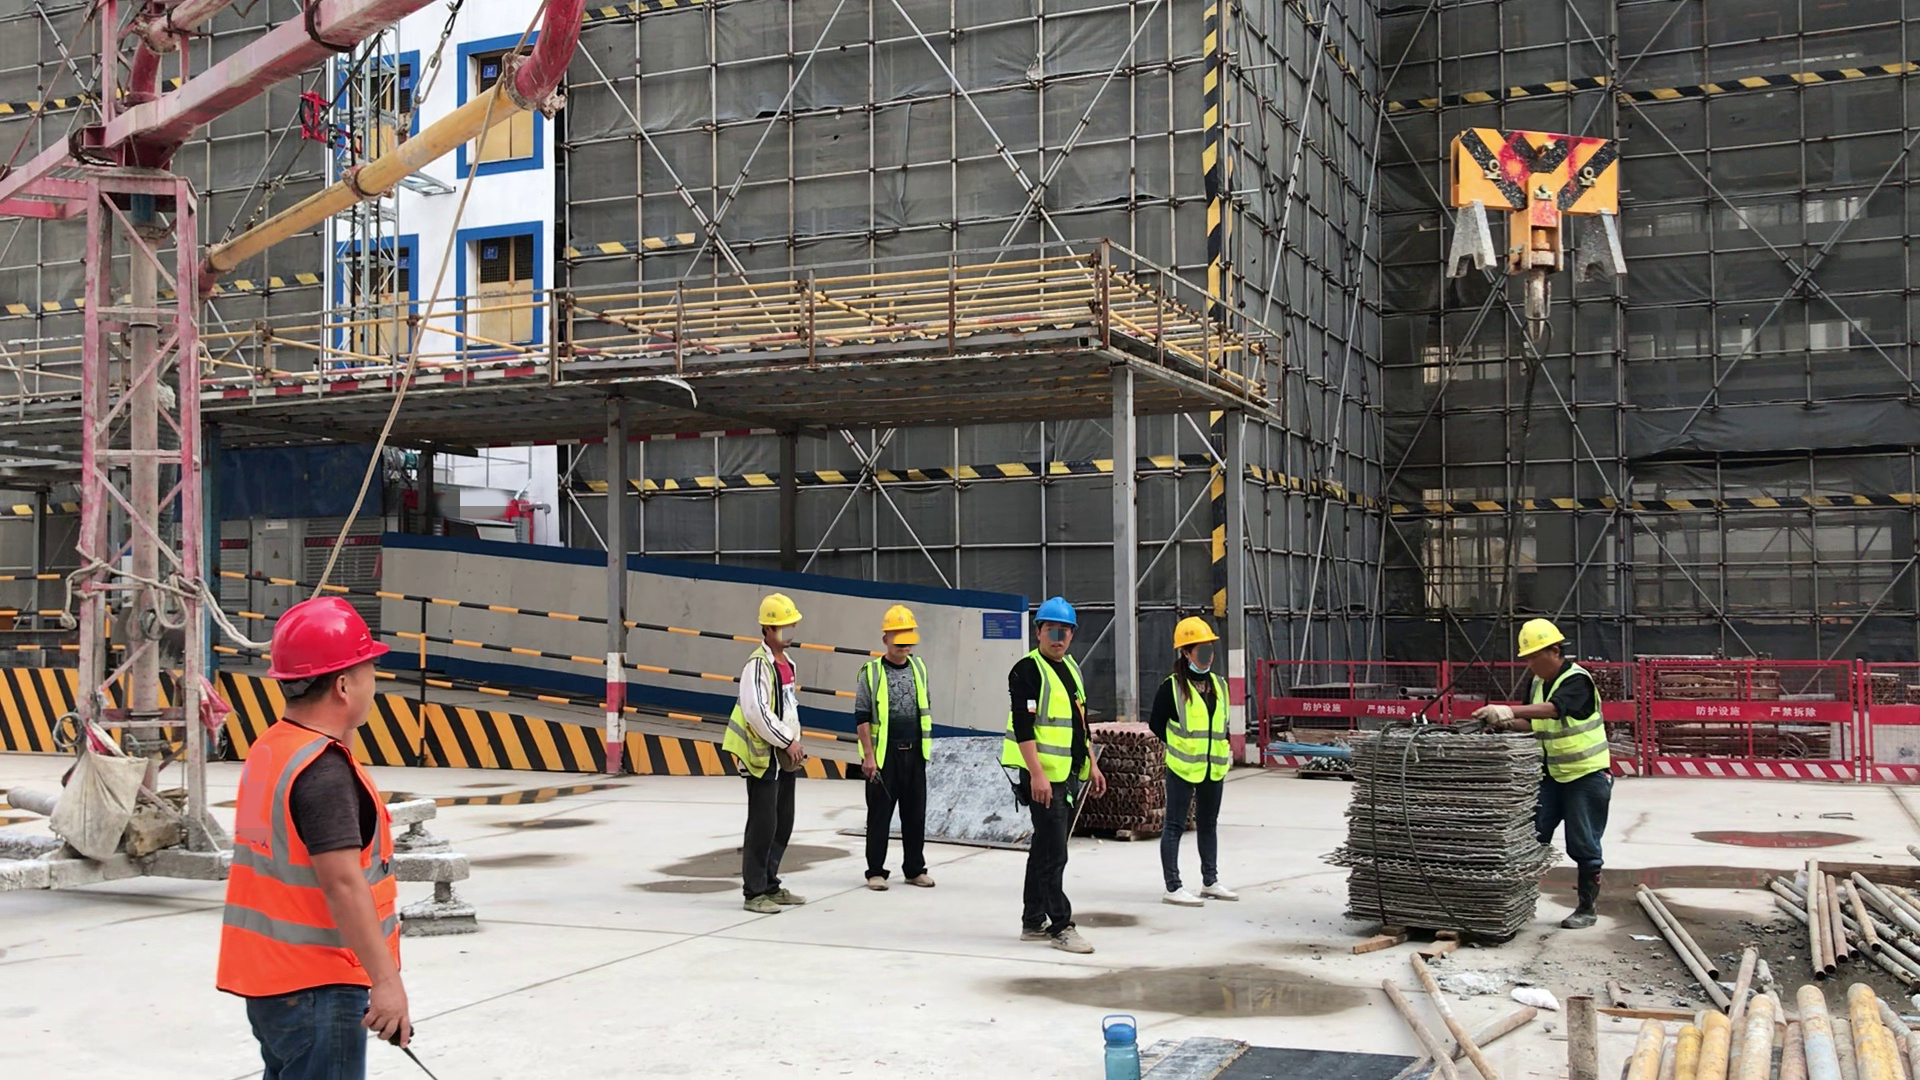board: (832, 732, 1105, 862)
fence: (1615, 653, 1894, 791), (1258, 651, 1466, 766)
helmet: (263, 596, 393, 688), (1515, 612, 1566, 662), (1167, 611, 1222, 647), (749, 594, 800, 628), (1030, 598, 1080, 628), (877, 603, 924, 633)
hook: (1436, 118, 1642, 348)
person: (212, 593, 444, 1080), (1470, 609, 1608, 928), (996, 595, 1101, 956), (716, 588, 813, 916), (1148, 611, 1245, 906), (847, 599, 942, 894)
vest: (217, 720, 405, 1010), (1514, 658, 1608, 791), (1003, 649, 1094, 779), (1159, 668, 1238, 790), (851, 657, 936, 764), (717, 649, 789, 777)
